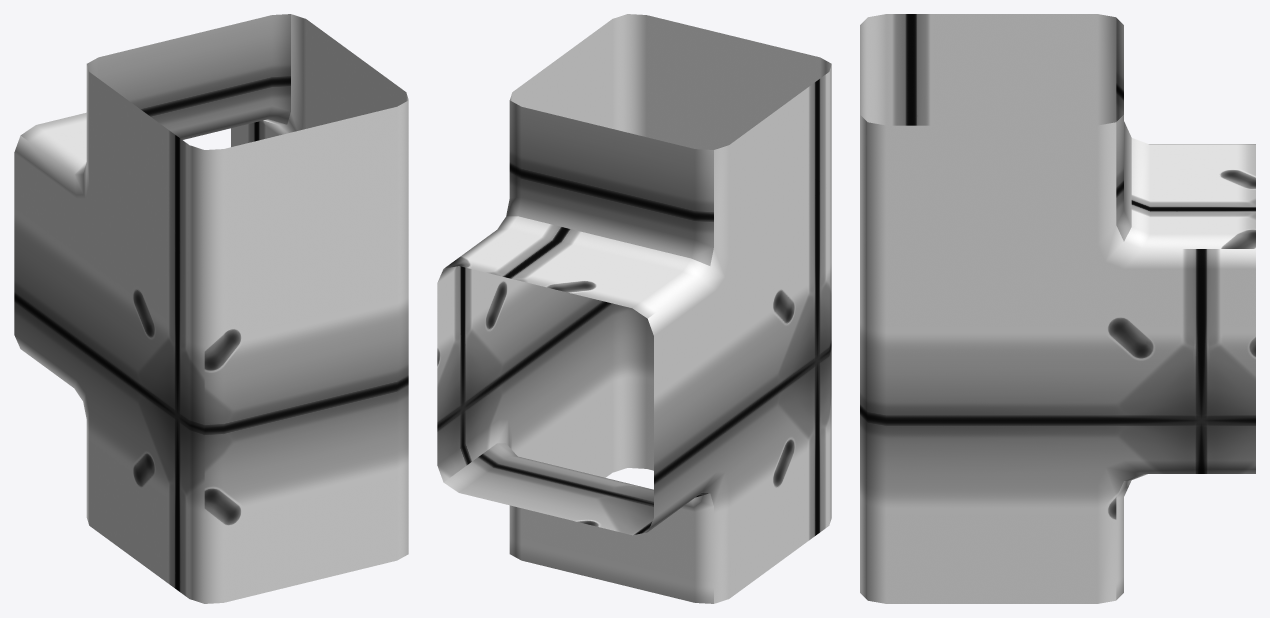
File: MDL_Trim_TJunction.fbx
3 views of the same model, side by side, from view 1: azimuth 30°, elevation 25°; view 2: azimuth 150°, elevation 25°; view 3: azimuth 270°, elevation 25° (orthographic). The views are drawn at different scales.
Parts seen in each view (by area): view 1: trimTJunction; view 2: trimTJunction; view 3: trimTJunction.
Boxes of the visible parts, <box> form: trimTJunction: <box>14,14,408,603</box>; trimTJunction: <box>437,14,831,603</box>; trimTJunction: <box>860,14,1255,603</box>.
Bounding box in the file's own units: 0.5 × 1 × 0.75.
